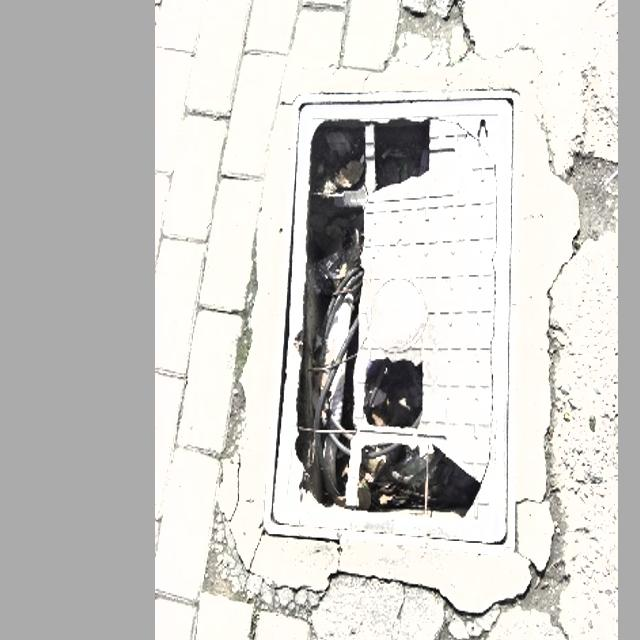broke: (263, 89, 520, 550)
